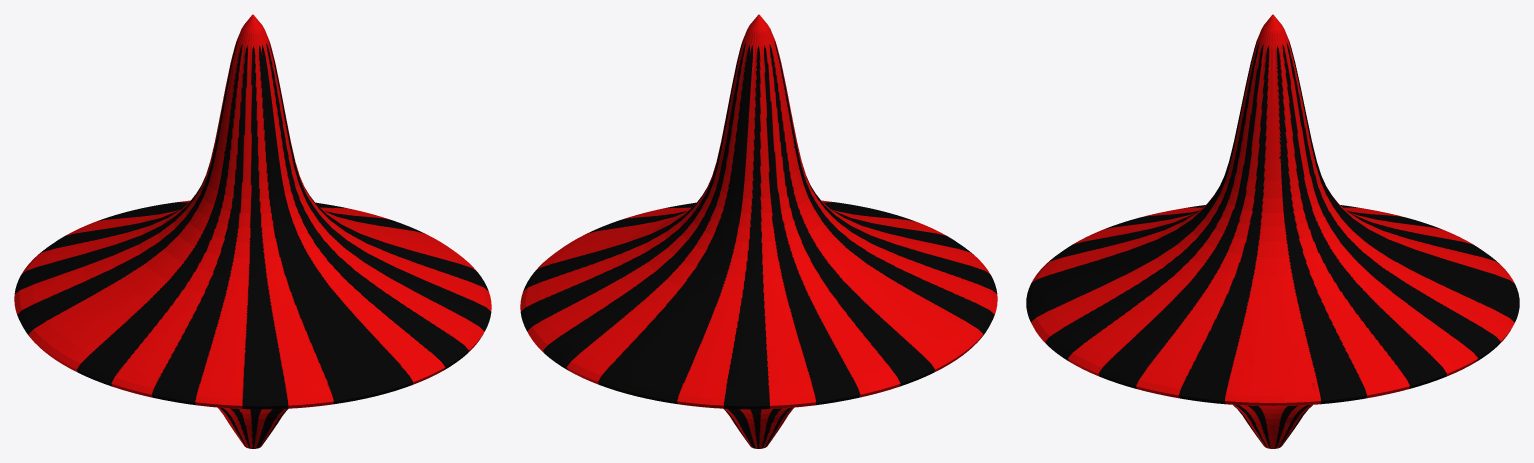
File: Toupie.obj
3 renders of one model, left to right at view 1: azimuth 30°, elevation 25°; view 2: azimuth 150°, elevation 25°; view 3: azimuth 270°, elevation 25°, orthographic.
Parts seen in each view (by area): view 1: Cylinder; view 2: Cylinder; view 3: Cylinder.
Part boxes in pixels (<box>): Cylinder: <box>14,14,491,448</box>; Cylinder: <box>520,14,997,448</box>; Cylinder: <box>1026,14,1519,448</box>.
Bounding box in the file's own units: 4.21 × 4.24 × 4.4.
Materials: 2 (2 with a texture image).
